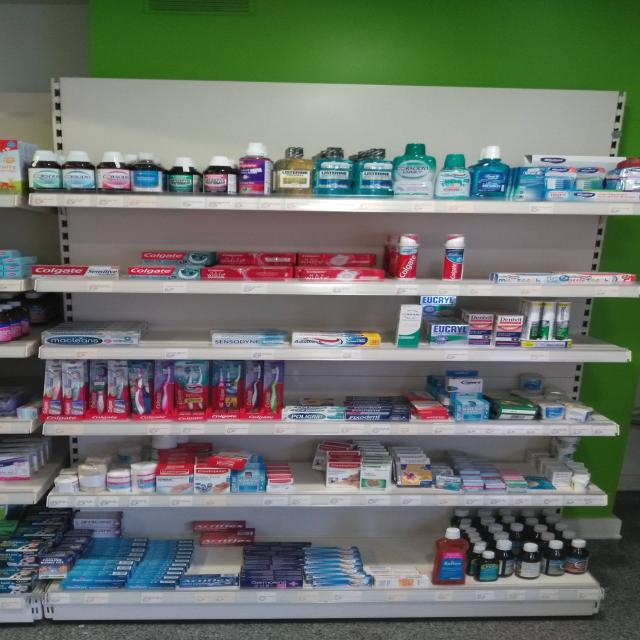unorganised: (467, 529, 597, 582), (487, 380, 612, 424), (140, 249, 376, 269), (206, 364, 284, 419), (395, 234, 471, 281), (86, 359, 107, 416), (552, 466, 598, 492)
